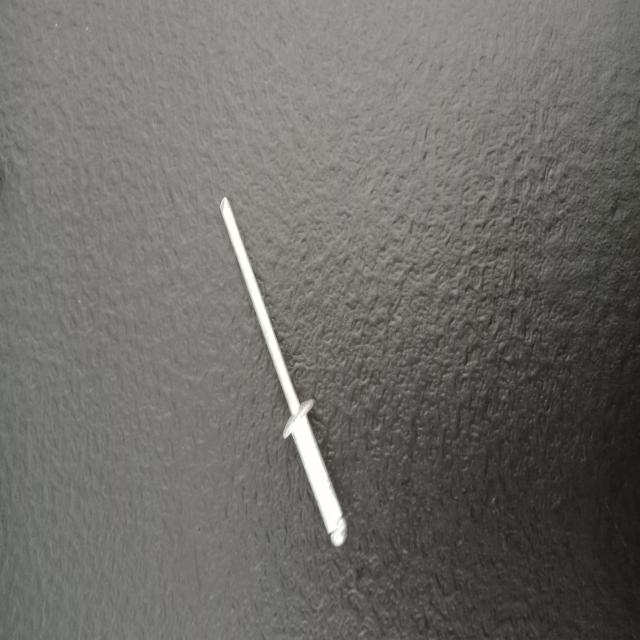rivet: (220, 196, 348, 547)
